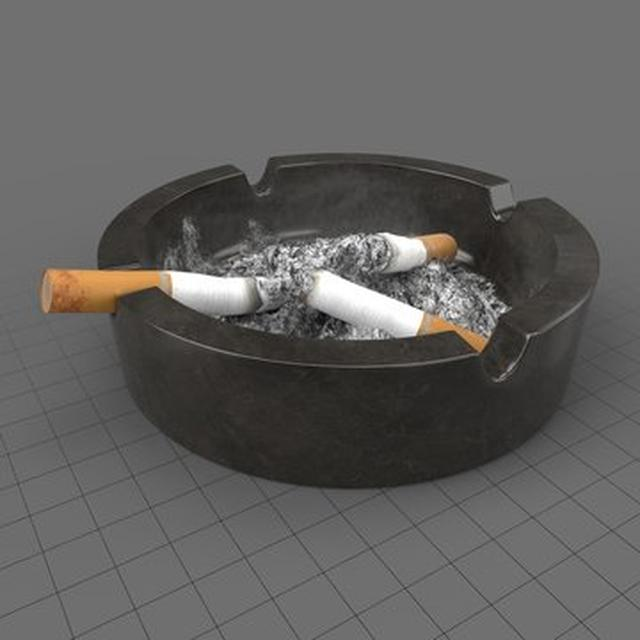Cigarette: (302, 267, 489, 352), (38, 266, 281, 318), (355, 234, 457, 277)
